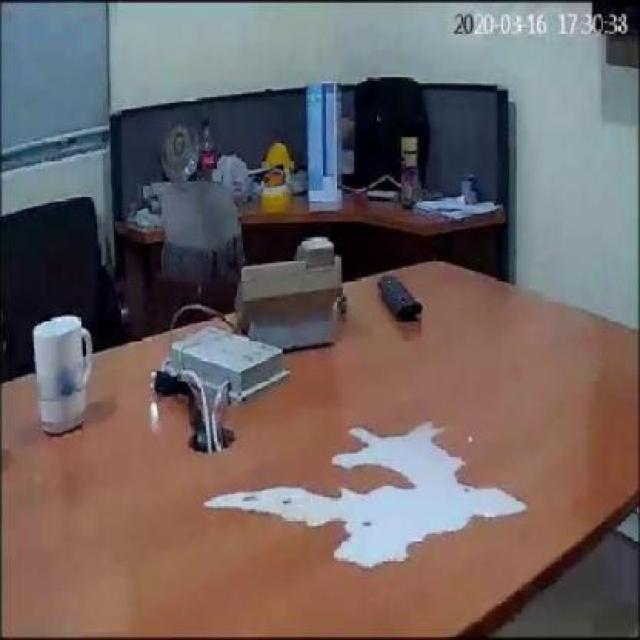spillage: (216, 421, 528, 568)
